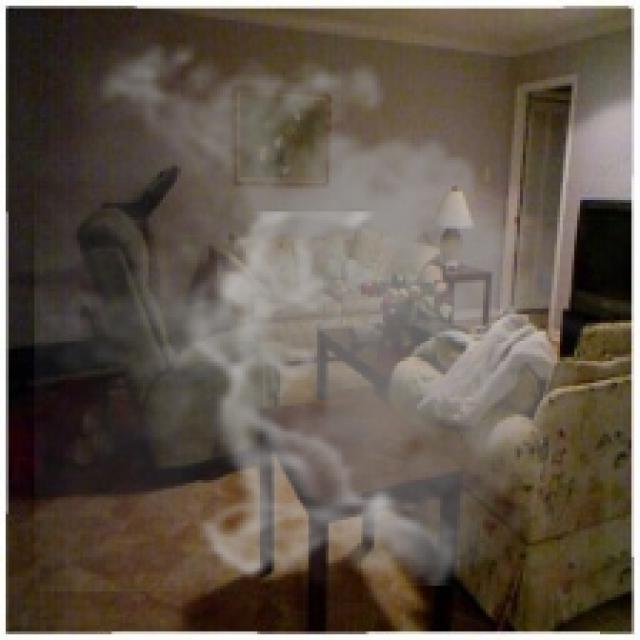Smoke: (34, 26, 603, 592)
